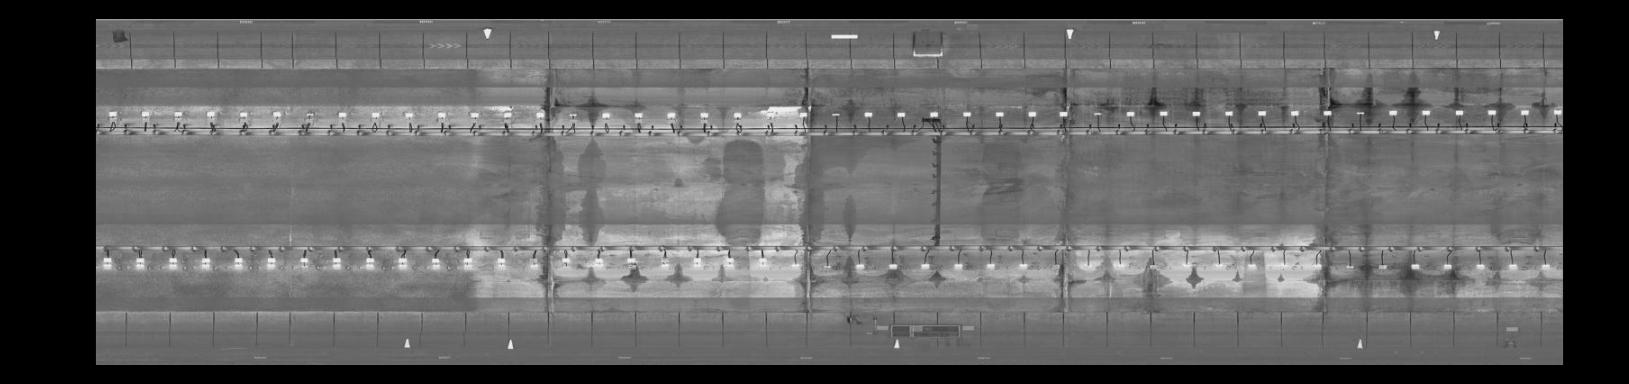light: (360, 254, 381, 273), (327, 255, 348, 273), (552, 255, 577, 269), (290, 255, 311, 271), (394, 255, 412, 272), (367, 106, 386, 120), (261, 255, 281, 270), (228, 255, 248, 269), (627, 108, 645, 124), (1535, 260, 1555, 274), (760, 108, 780, 121), (492, 256, 512, 270), (655, 255, 671, 271), (458, 256, 475, 272), (426, 257, 443, 273), (1187, 107, 1205, 121), (524, 258, 541, 273), (1373, 260, 1392, 274), (1046, 260, 1065, 274), (949, 260, 967, 274), (532, 108, 551, 121), (1142, 260, 1161, 273), (1110, 260, 1129, 273), (589, 256, 609, 269), (1471, 259, 1488, 274), (621, 255, 638, 270), (752, 257, 770, 271), (98, 256, 115, 270), (1437, 260, 1456, 273), (1077, 260, 1096, 273), (464, 110, 483, 122), (1253, 106, 1269, 120), (1404, 263, 1423, 274), (301, 108, 321, 119), (202, 110, 221, 121), (1241, 259, 1258, 273), (197, 256, 214, 270), (1352, 107, 1369, 119), (983, 260, 1000, 273), (850, 260, 867, 273), (131, 257, 149, 270), (167, 109, 188, 119), (161, 255, 182, 266), (689, 255, 703, 270), (500, 109, 514, 124), (1417, 106, 1433, 119), (662, 110, 677, 124), (596, 108, 612, 121), (333, 108, 349, 121), (1285, 107, 1302, 119), (729, 109, 746, 121), (1056, 108, 1073, 119), (916, 262, 934, 273), (694, 110, 712, 121), (399, 110, 417, 121), (104, 108, 122, 119), (1319, 106, 1334, 119), (1341, 259, 1356, 273), (891, 108, 908, 119), (432, 108, 449, 119), (1119, 109, 1137, 119), (234, 110, 251, 120), (1484, 107, 1498, 119), (1014, 260, 1029, 273), (722, 255, 737, 268), (1517, 107, 1532, 118), (1385, 107, 1400, 118), (269, 108, 285, 119), (1155, 109, 1172, 119), (958, 108, 974, 118), (1506, 260, 1520, 273), (885, 262, 900, 273), (1221, 109, 1236, 119), (793, 110, 809, 119), (1025, 108, 1039, 119), (566, 110, 580, 121), (137, 108, 151, 119), (1548, 107, 1563, 117), (1309, 260, 1324, 271), (992, 109, 1007, 119), (1179, 258, 1194, 269), (1210, 260, 1228, 269), (1277, 260, 1292, 270), (819, 263, 834, 272), (786, 262, 802, 271), (861, 110, 877, 119), (1453, 107, 1466, 118), (927, 110, 942, 118), (829, 110, 843, 119), (1091, 110, 1104, 118)
